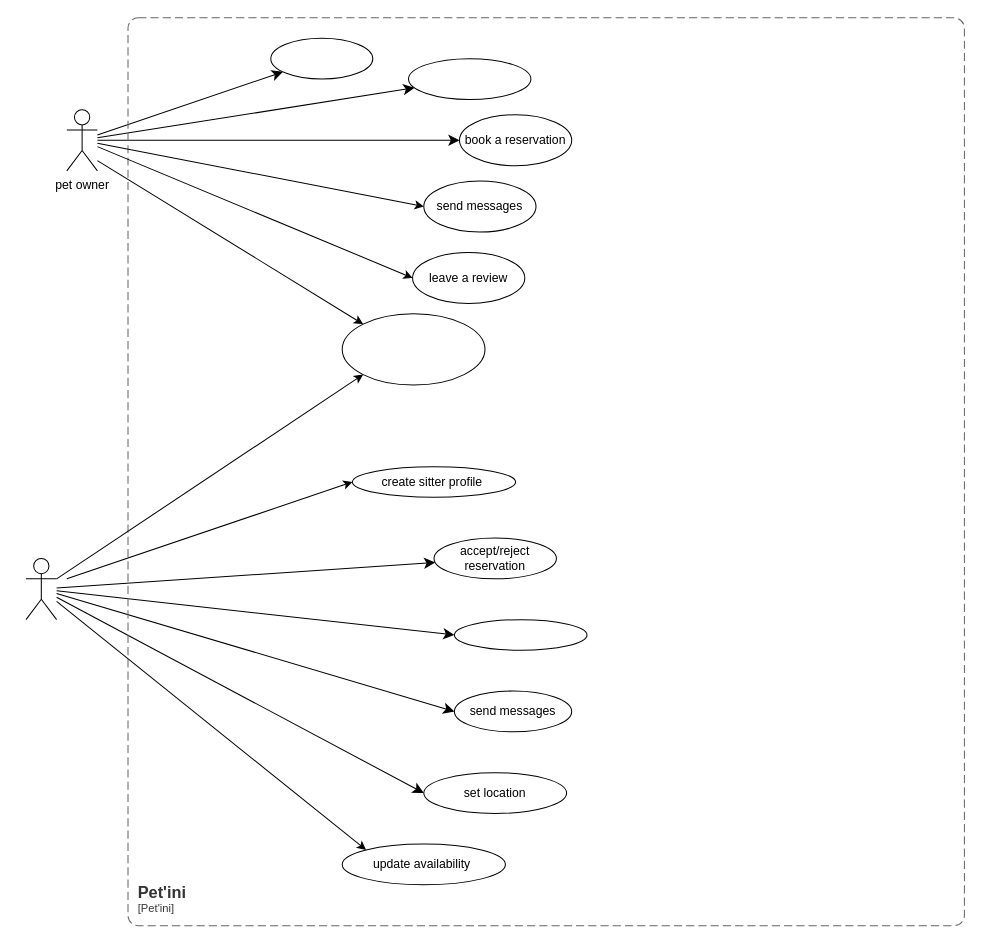
Some shapes in this 982 by 944 pixel diagram are drawn without their labels. Here are the shapes that lost their labels. From the top down, the centre of each, then its label:
At point 321,58: "create pet profile".
At point 469,78: "search for pet sitters".
At point 413,349: "login/sign up".
At point 41,588: "pet sitter".
At point 520,634: "view bookings".
